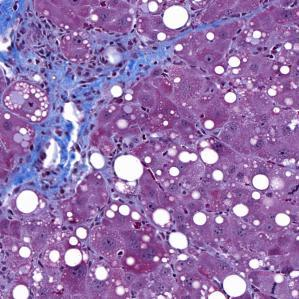fibrosis: (32, 56, 110, 168)
